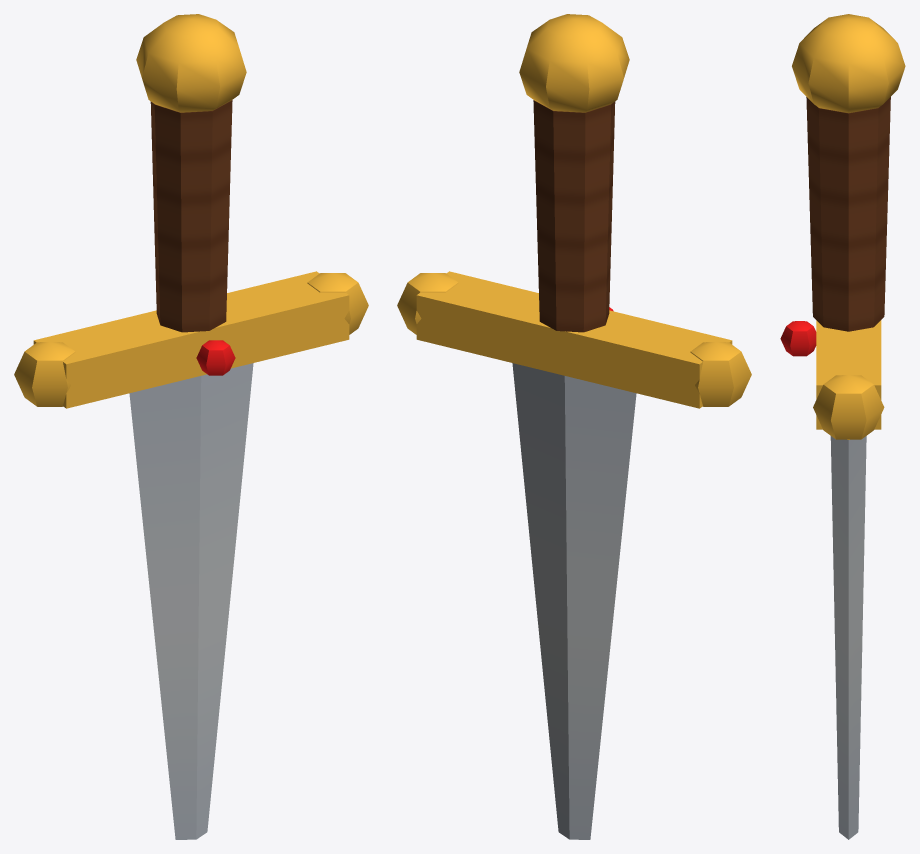
The model's file is Decor_Dagger.fbx.
3 renders of one model, left to right at view 1: azimuth 30°, elevation 25°; view 2: azimuth 150°, elevation 25°; view 3: azimuth 270°, elevation 25°, orthographic.
Visible parts, largest first — view 1: Decor_Dagger; view 2: Decor_Dagger; view 3: Decor_Dagger.
Part boxes in pixels (x1,y1,x2,y2): Decor_Dagger: (14,14,368,839); Decor_Dagger: (397,14,751,839); Decor_Dagger: (780,14,905,839).
Size of the model in its own units: 0.2381 by 0.5515 by 0.077.
Materials: 1 (1 with a texture image).
